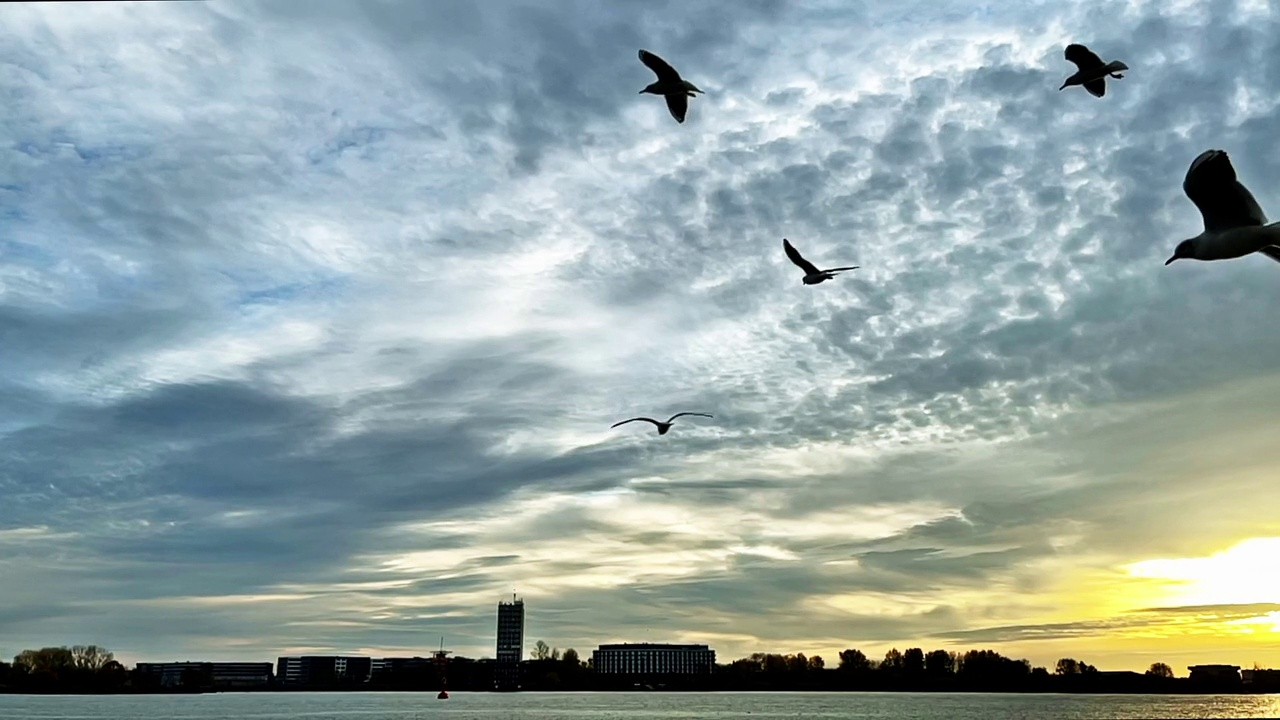bird: (1163, 149, 1280, 267), (638, 48, 706, 124), (1057, 43, 1128, 98), (782, 238, 859, 288), (610, 410, 710, 433)
